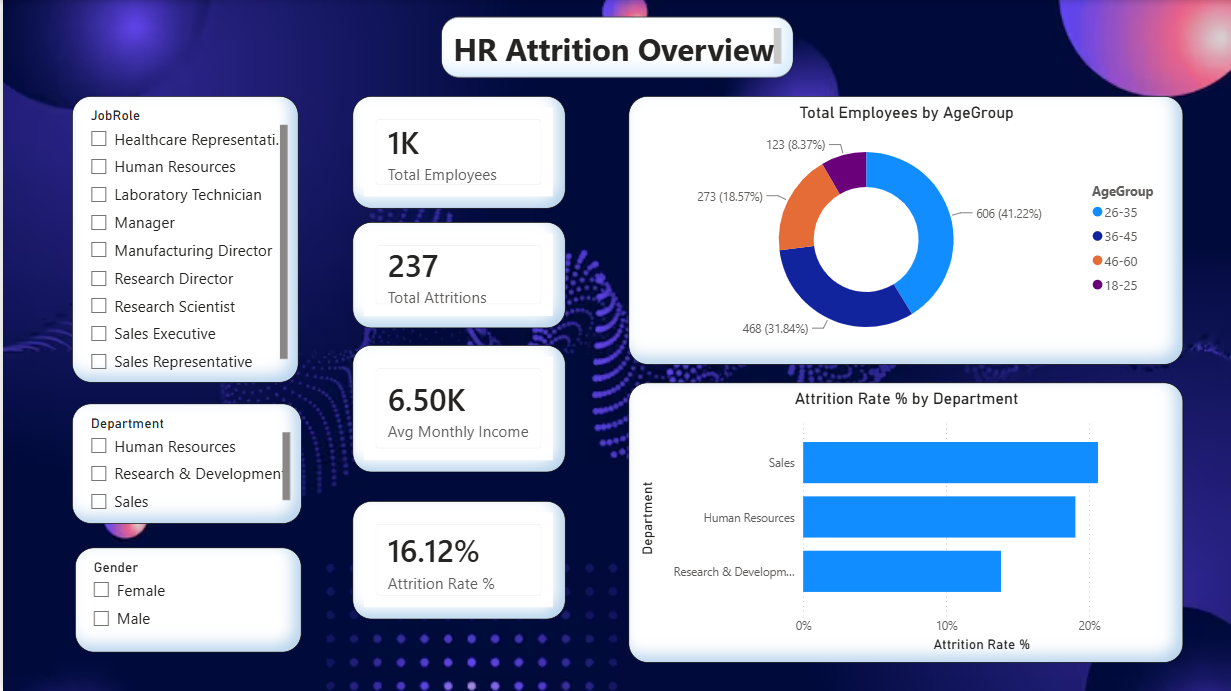

What the dashboard file says about the page in this screenshot:
{"tool":"powerbi","page":{"name":"Overview","canvas":[1280,720],"ordinal":0},"visuals":[{"type":"cardVisual","fields":{"Data":["Employees.Attrition Rate %"]},"box":[364.2,522,221.9,123.5],"z":0},{"type":"cardVisual","fields":{"Data":["Employees.Total Attritions"]},"box":[364.2,231.3,221.9,111],"z":1000},{"type":"cardVisual","fields":{"Data":["Employees.Total Employees"]},"box":[364.2,100,221.9,117.2],"z":2000},{"type":"cardVisual","fields":{"Data":["Employees.Avg Monthly Income"]},"box":[364.2,359.5,221.9,132.9],"z":3000},{"type":"clusteredBarChart","fields":{"Category":["Employees.Department"],"Y":["Employees.Attrition Rate %"]},"box":[651.8,398.6,578.3,292.3],"z":4000},{"type":"donutChart","fields":{"Category":["Employees.AgeGroup"],"Y":["Employees.Total Employees"]},"box":[651.8,100,578.3,279.8],"z":5000},{"type":"slicer","fields":{"Values":["Employees.Department"]},"box":[71.9,420.4,239.1,125],"z":6000},{"type":"slicer","fields":{"Values":["Employees.Gender"]},"box":[75,570.5,236,109.4],"z":7000},{"type":"slicer","fields":{"Values":["Employees.JobRole"]},"box":[71.9,100,236,298.5],"z":8000},{"type":"textbox","box":[456.4,17.2,367.3,64.1],"z":9000}]}

Visuals, with their boxes in screenshot pixels (x1, y1, x2, y2), scaled from the page's 1280x720 canvas onto the 1231x691 screenshot:
cardVisual - Employees.Attrition Rate %: {"left": 350, "top": 501, "right": 564, "bottom": 620}
cardVisual - Employees.Total Attritions: {"left": 350, "top": 222, "right": 564, "bottom": 329}
cardVisual - Employees.Total Employees: {"left": 350, "top": 96, "right": 564, "bottom": 208}
cardVisual - Employees.Avg Monthly Income: {"left": 350, "top": 345, "right": 564, "bottom": 473}
clusteredBarChart - Employees.Department x Employees.Attrition Rate %: {"left": 627, "top": 383, "right": 1183, "bottom": 663}
donutChart - Employees.AgeGroup x Employees.Total Employees: {"left": 627, "top": 96, "right": 1183, "bottom": 365}
slicer - Employees.Department: {"left": 69, "top": 403, "right": 299, "bottom": 523}
slicer - Employees.Gender: {"left": 72, "top": 548, "right": 299, "bottom": 653}
slicer - Employees.JobRole: {"left": 69, "top": 96, "right": 296, "bottom": 382}
textbox: {"left": 439, "top": 17, "right": 792, "bottom": 78}
